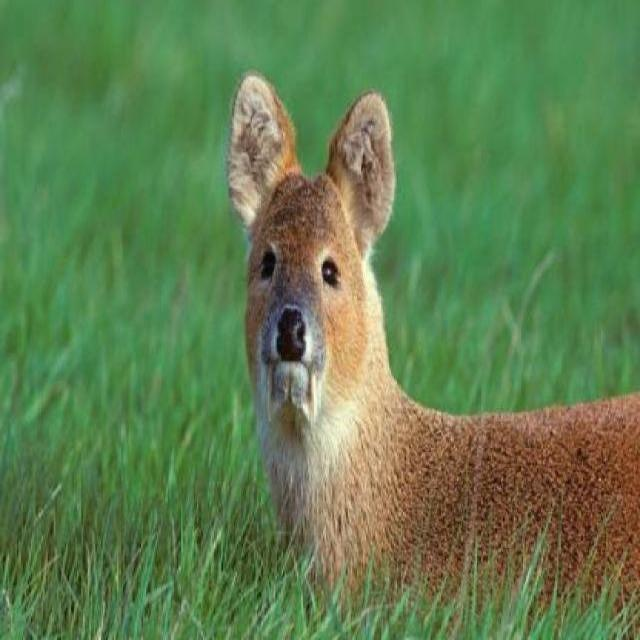deer: (223, 53, 639, 640)
